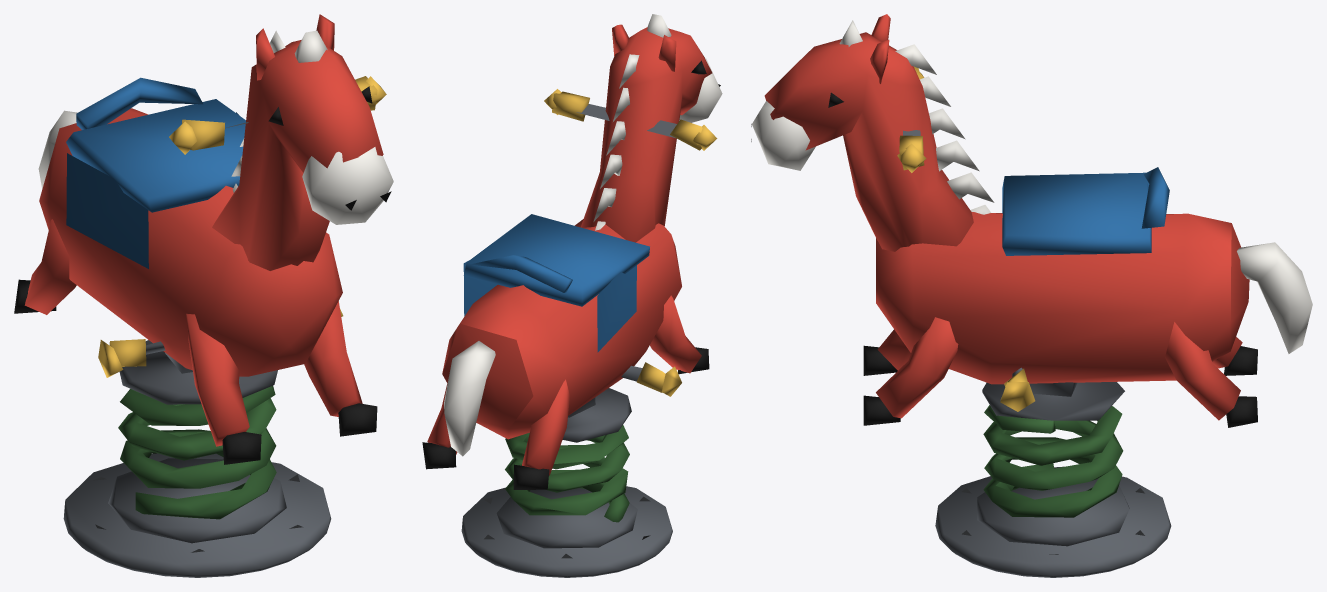
Rendered from springRider.far.glb.
3 views of the same model, side by side, from view 1: azimuth 30°, elevation 25°; view 2: azimuth 150°, elevation 25°; view 3: azimuth 270°, elevation 25° (orthographic). The views are drawn at different scales.
Parts seen in each view (by area): view 1: springRider_far; view 2: springRider_far; view 3: springRider_far.
Boxes of the visible parts, box(x1,y1,x2,y2) form: springRider_far: box(14, 14, 393, 577); springRider_far: box(422, 14, 722, 577); springRider_far: box(751, 14, 1312, 577).
Size of the model in its own units: 0.4 by 0.9496 by 0.9522.
